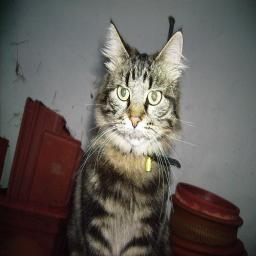catnose: (126, 112, 144, 130)
